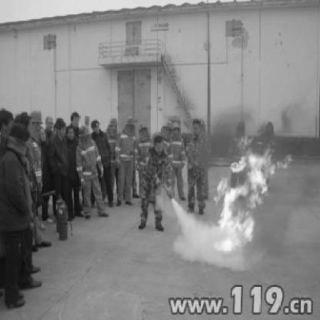other: (104, 112, 141, 202)
